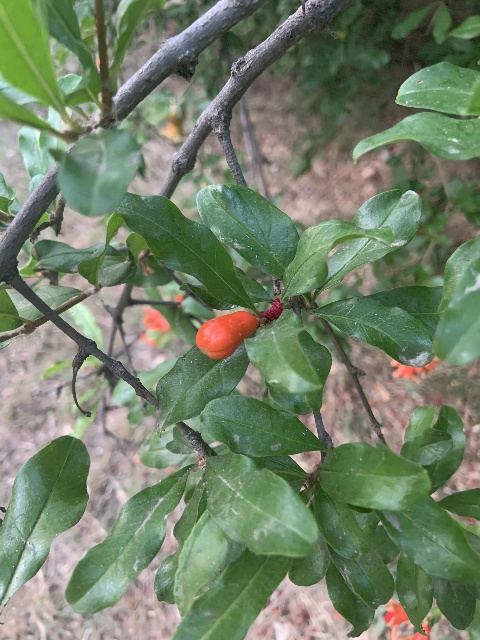bud: (195, 310, 258, 360)
flower: (383, 600, 408, 631)
